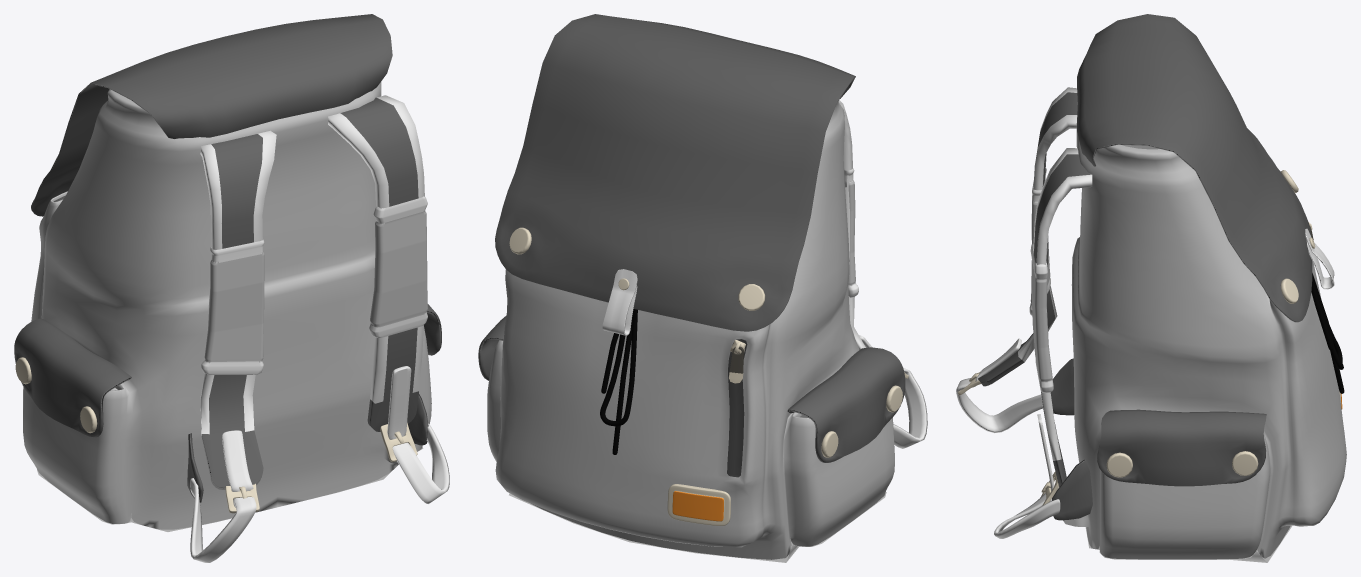
The picture shows the model from 3 angles, left to right: view 1: azimuth 30°, elevation 25°; view 2: azimuth 150°, elevation 25°; view 3: azimuth 270°, elevation 25°; orthographic projection. The views are drawn at different scales.
Parts seen in each view (by area): view 1: Cube; view 2: Cube; view 3: Cube.
Boxes of the visible parts, x1=… form: Cube: x1=14, y1=14, x2=449, y2=562; Cube: x1=478, y1=14, x2=927, y2=562; Cube: x1=956, y1=14, x2=1346, y2=562.
Bounding box in the file's own units: 0.3373 × 0.3914 × 0.3274.
